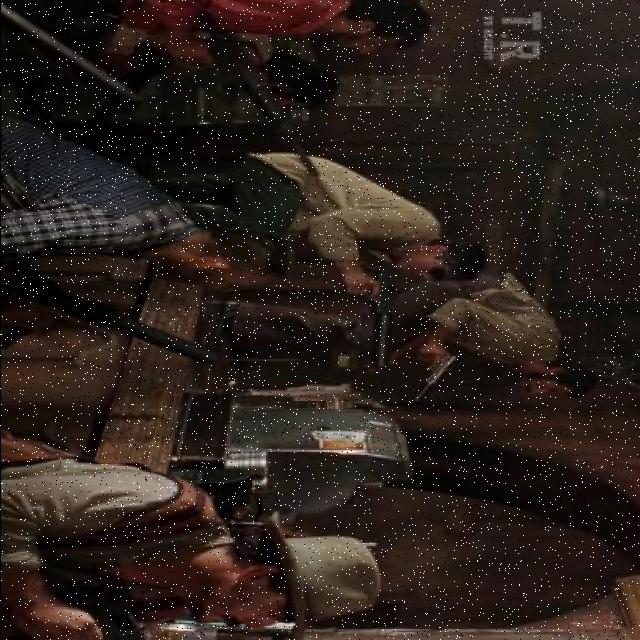Guns: (43, 567, 147, 640), (363, 264, 396, 369), (409, 350, 458, 403)
Rifle: (0, 256, 230, 365), (183, 11, 309, 167)
